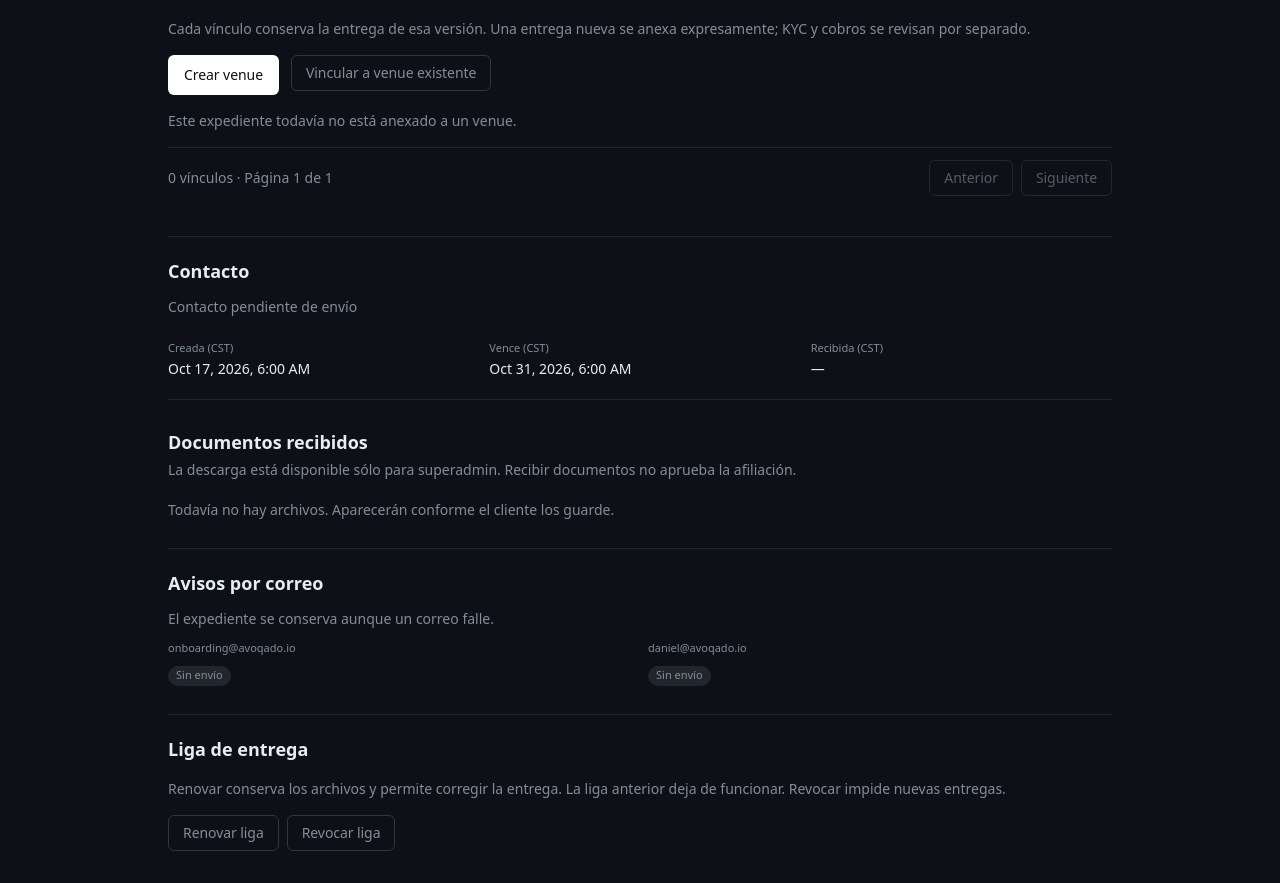
Test: renueva y revoca con confirmación, conserva archivos y descarta liga revocada
The width and height of the screenshot is (1280, 883).
(page scrolled)
What coordinates should you click on to do the following:
click the button "Renovar liga"
I would click on:
 (223, 833)
Its box is [168,815,279,851].
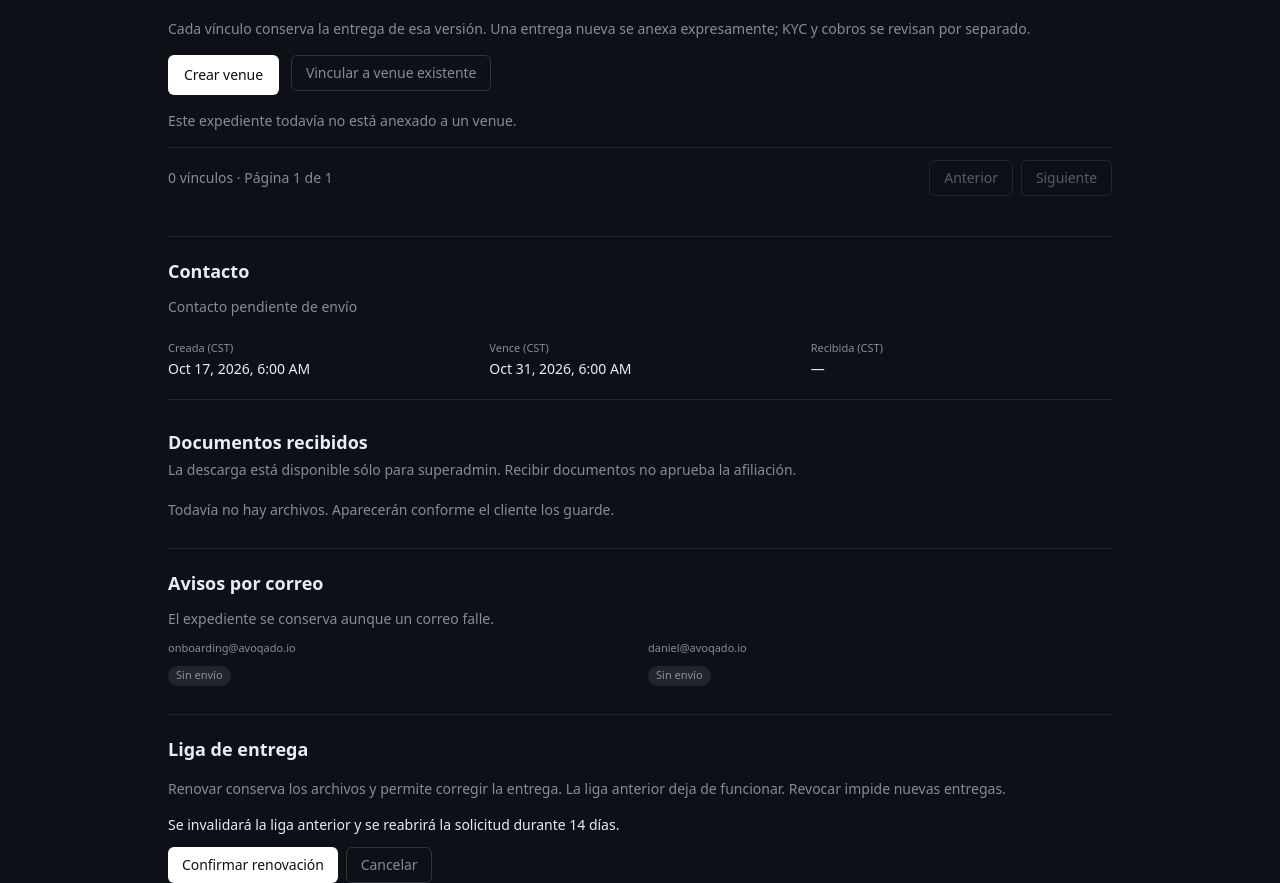
What coordinates should you click on to do the following:
click the button "Confirmar renovación"
I would click on:
 (253, 865)
Its box is [168,847,338,882].
(page scrolled)
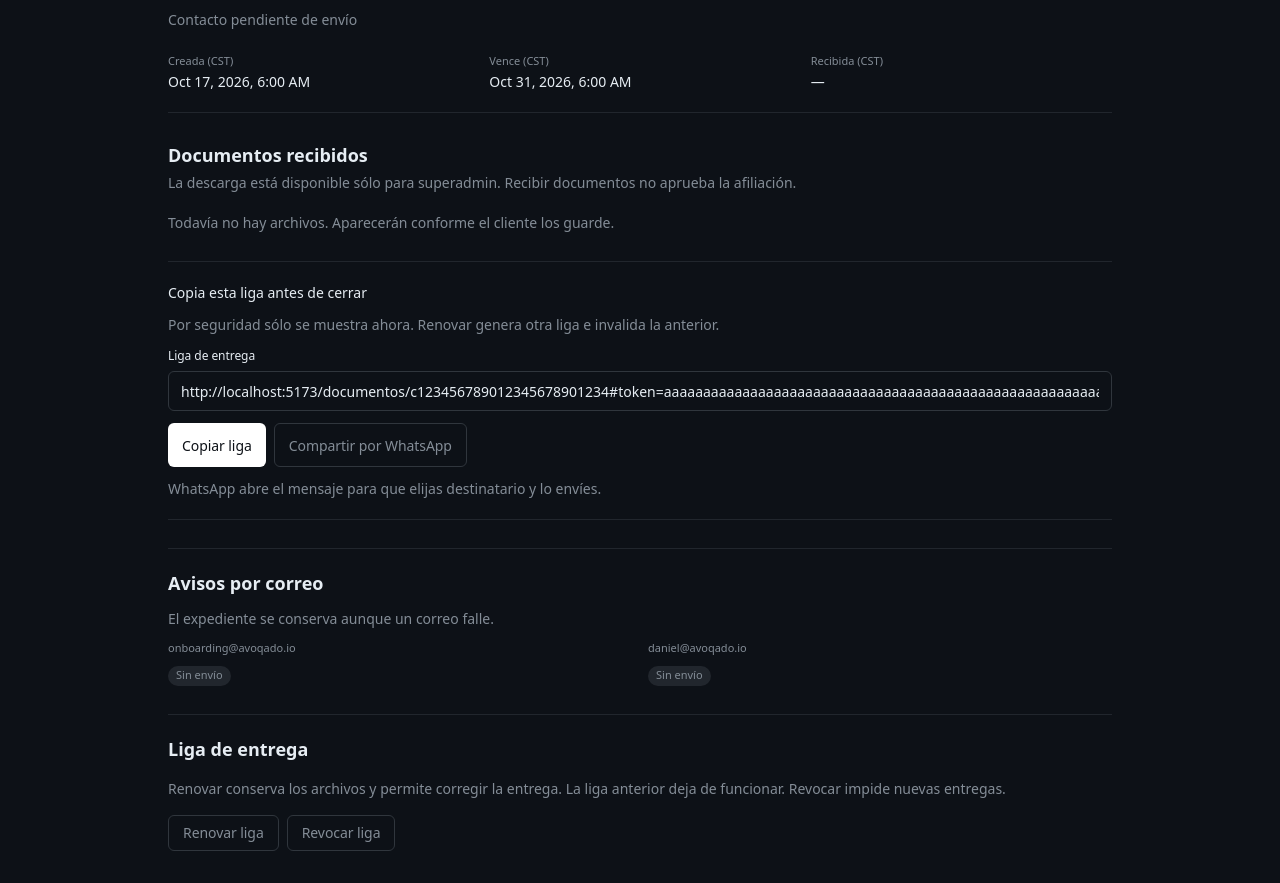
Now the button "Copiar liga" is shown, box [168,423,266,467]
What coordinates should you click on to do the following:
click the button "Revocar liga"
I would click on:
 (341, 833)
Its box is [287,815,396,851].
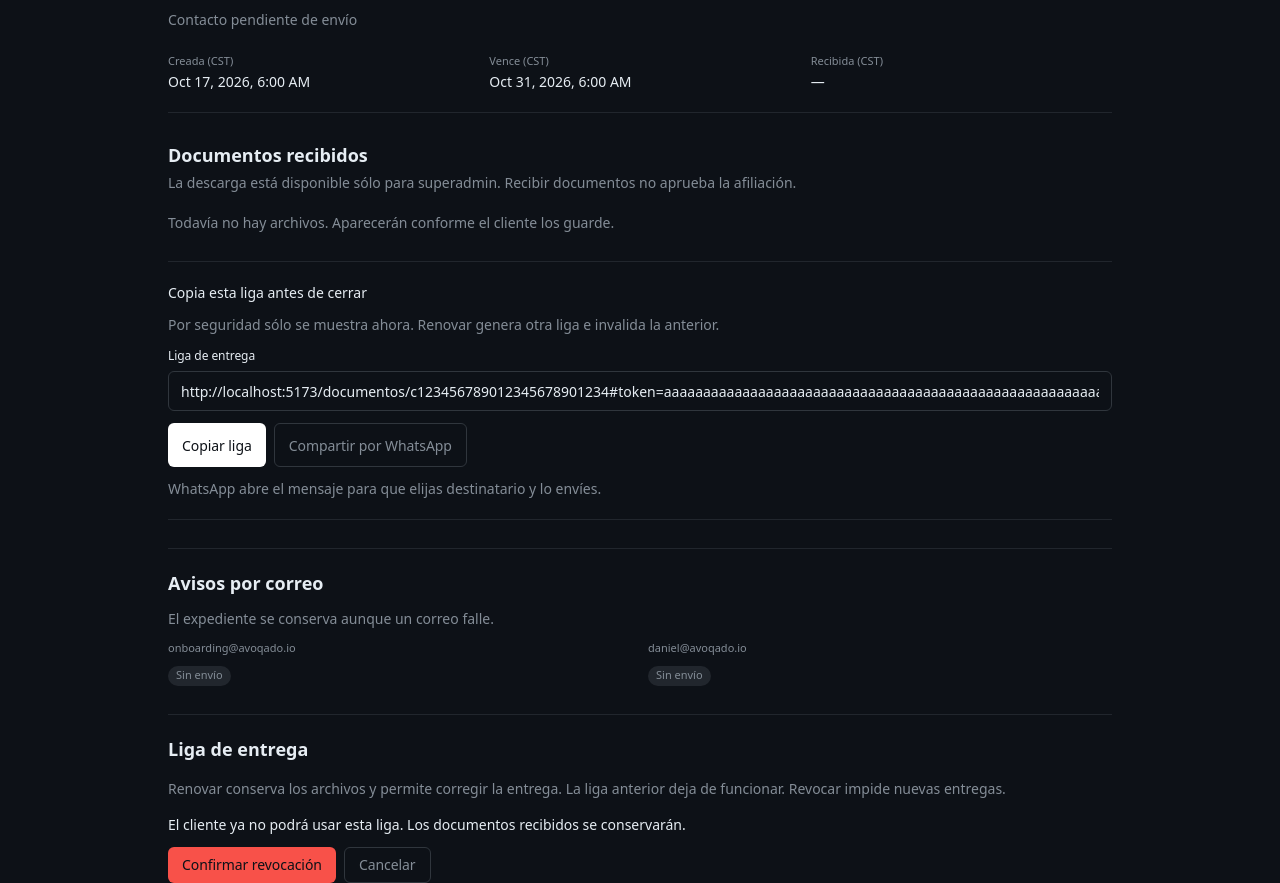
What coordinates should you click on to do the following:
click the button "Confirmar revocación"
I would click on:
 (252, 865)
Its box is [168,847,336,882].
(page scrolled)
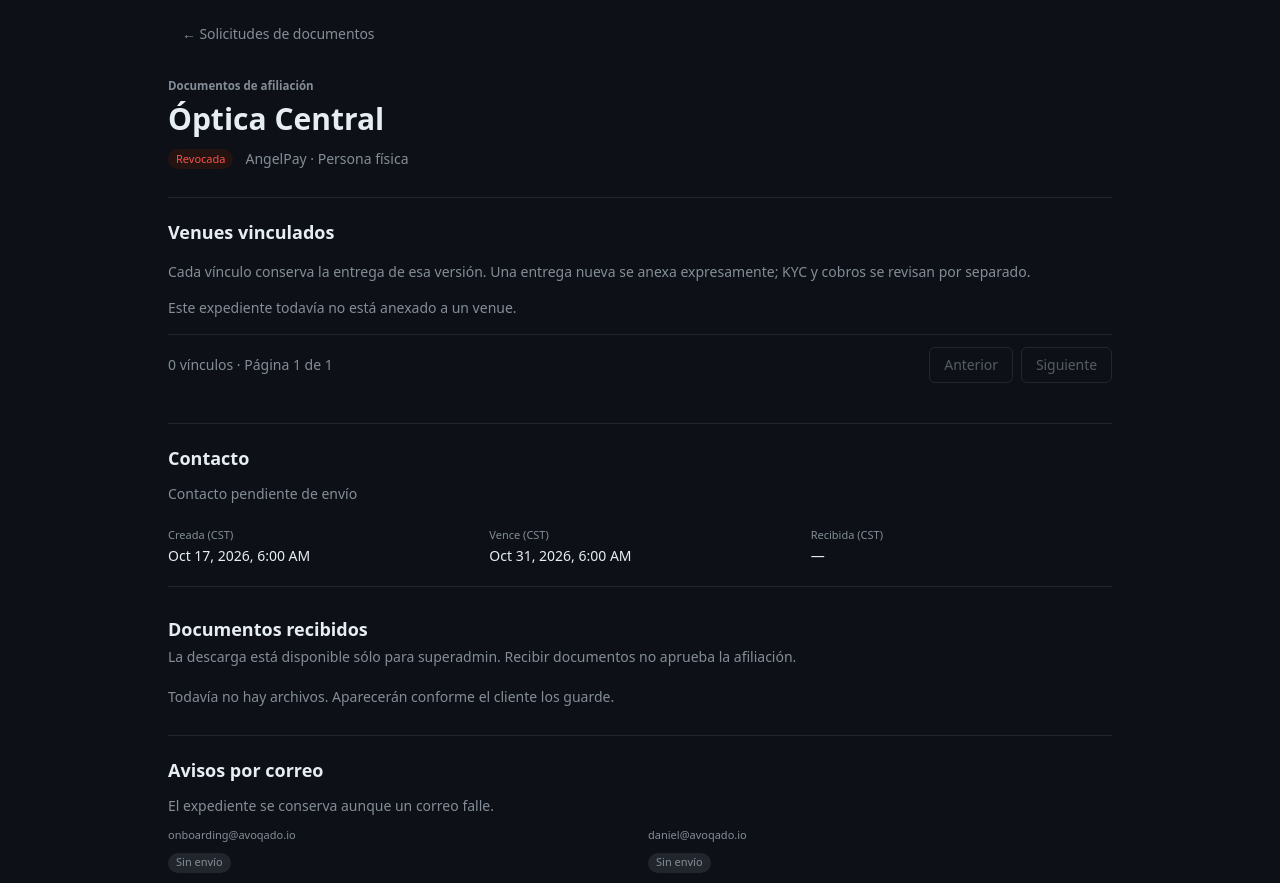
Now the text "Revocada" is shown, box [168,149,234,169]
Now the button "Copiar liga" is gone
